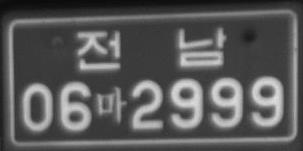0: (22, 81, 53, 131)
2: (131, 79, 163, 129)
6: (59, 81, 93, 131)
9: (169, 77, 204, 129), (209, 75, 243, 128), (249, 75, 284, 126)
마: (95, 86, 127, 123)
전남_D: (77, 26, 227, 70)
